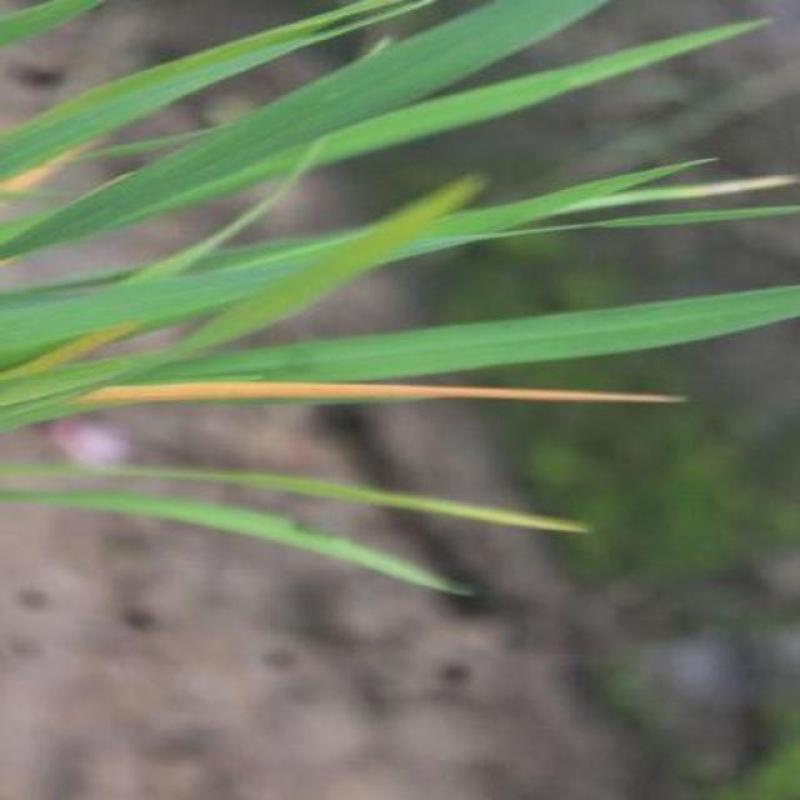Rice Tungro: (114, 368, 710, 434)
